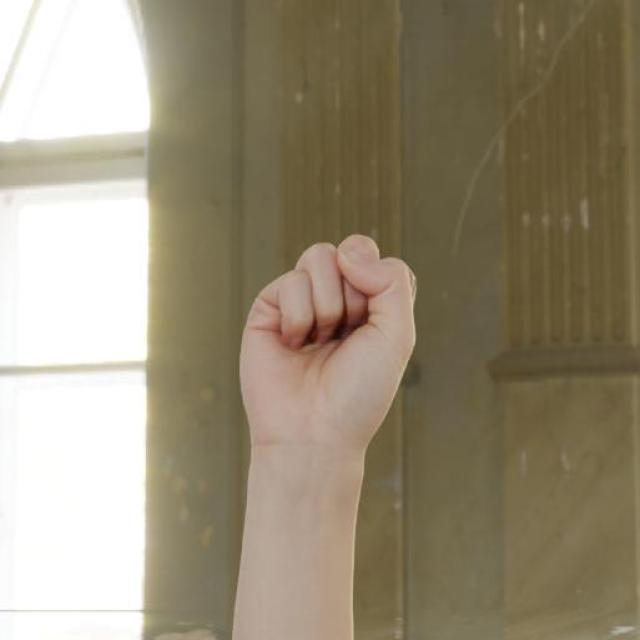S: (234, 231, 422, 457)
